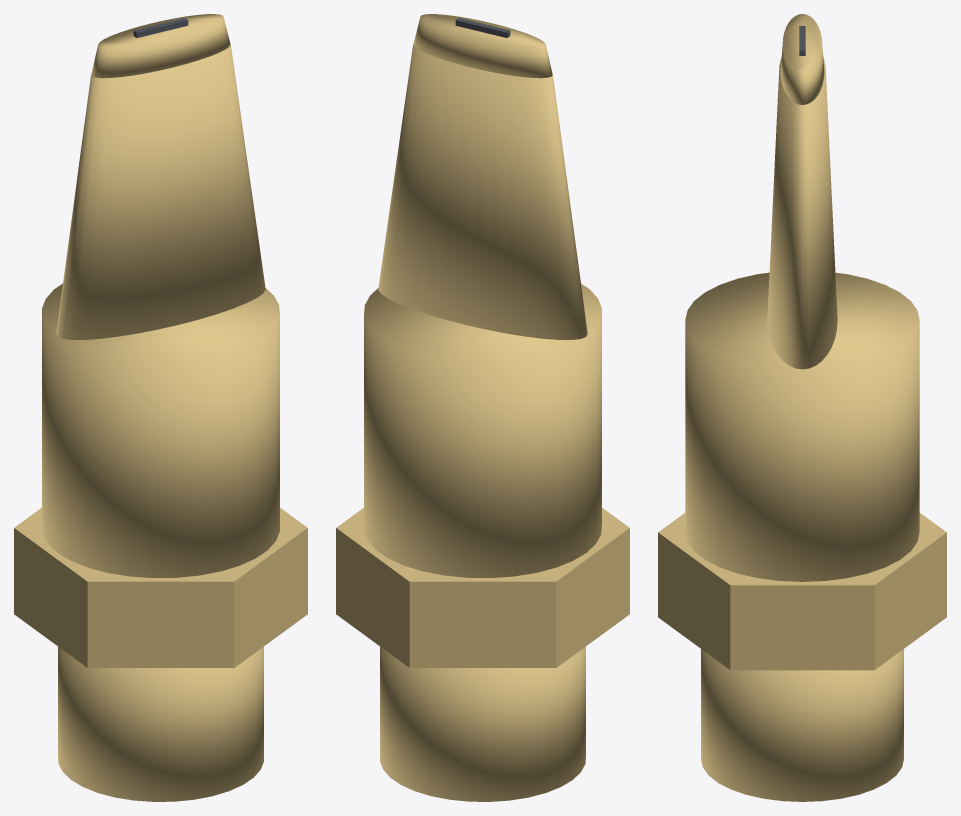
Rendered from nozzle-fan.glb.
The picture shows the model from 3 angles, left to right: view 1: azimuth 30°, elevation 25°; view 2: azimuth 150°, elevation 25°; view 3: azimuth 270°, elevation 25°; orthographic projection.
Parts seen in each view (by area): view 1: Веерная; view 2: Веерная; view 3: Веерная.
Boxes of the visible parts, x1,y1,x2,y2 form: Веерная: (14, 14, 307, 801); Веерная: (336, 14, 629, 801); Веерная: (658, 14, 946, 801).
Size of the model in its own units: 0.032 by 0.1018 by 0.037.
